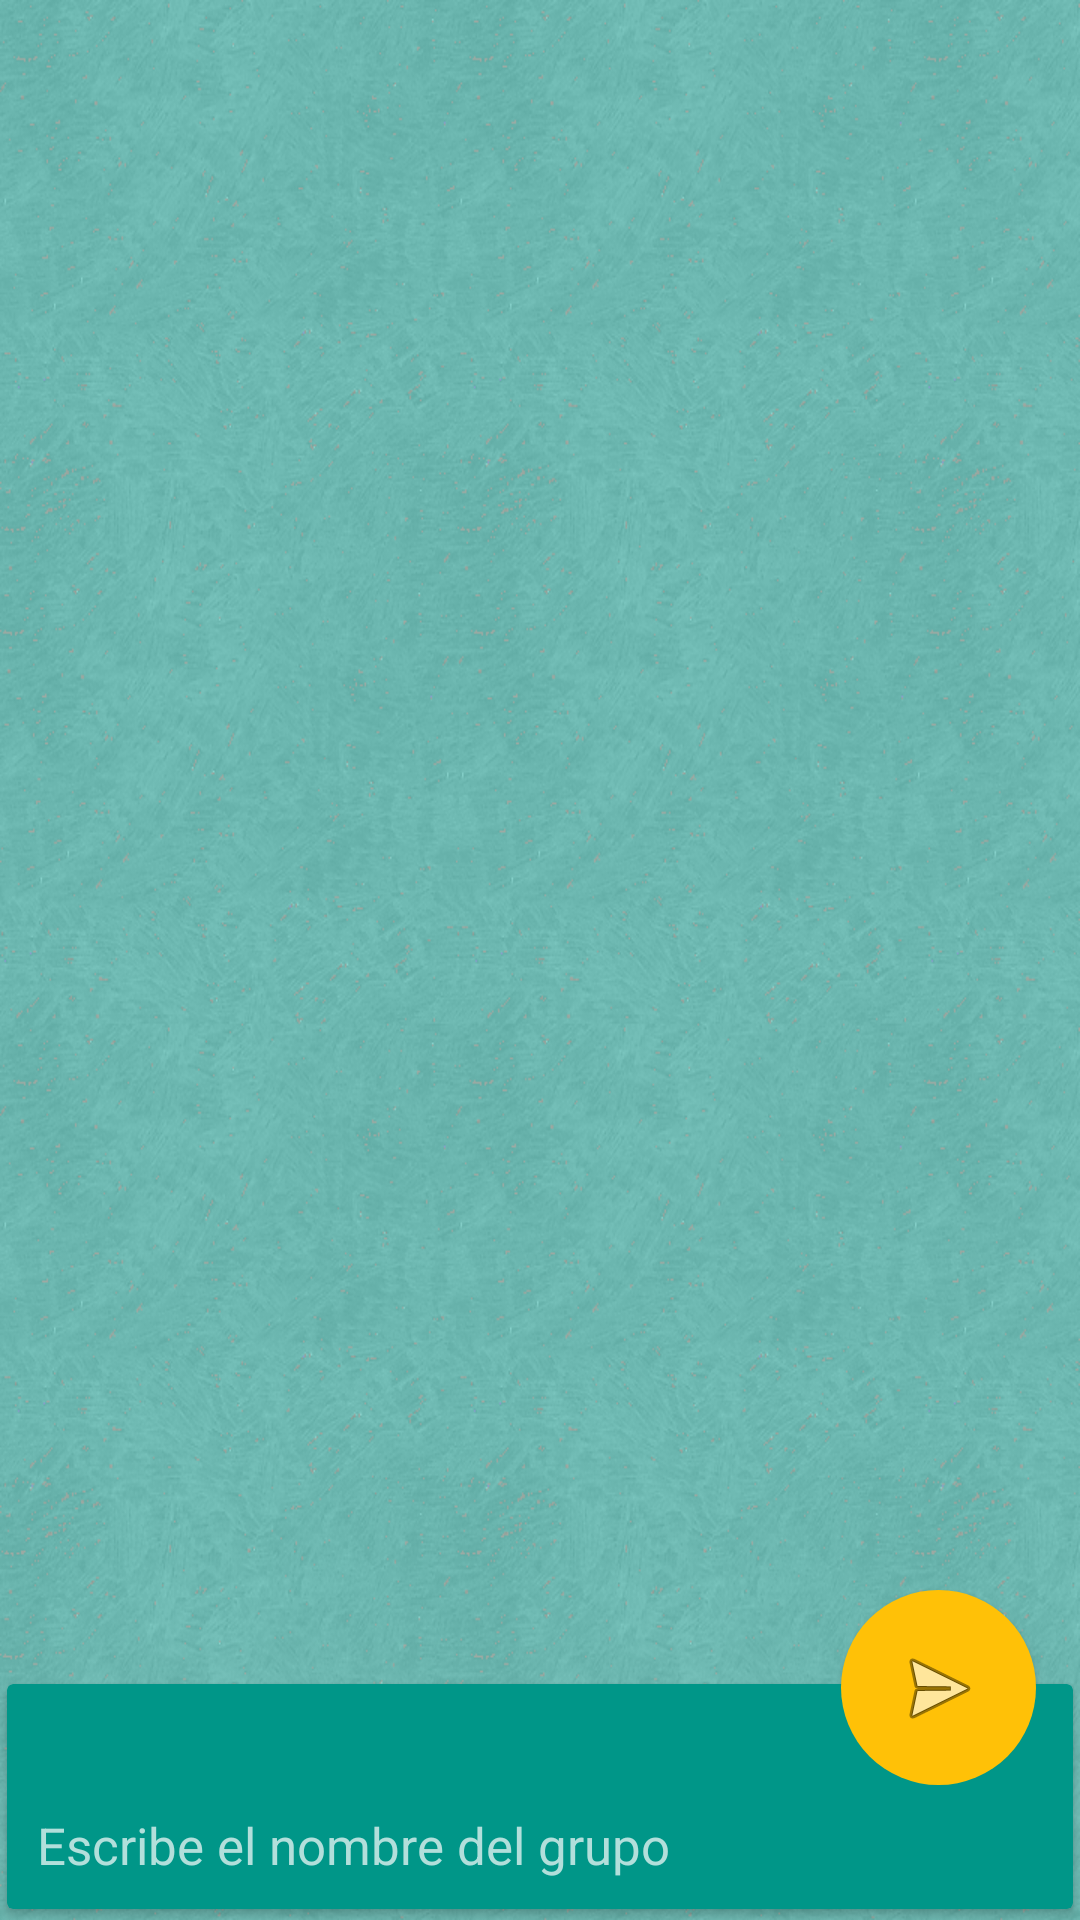

Point at icon controls on the screen. Image size 1080 x 1920, points as (x=x, y=y).
send: (x=938, y=1687)
